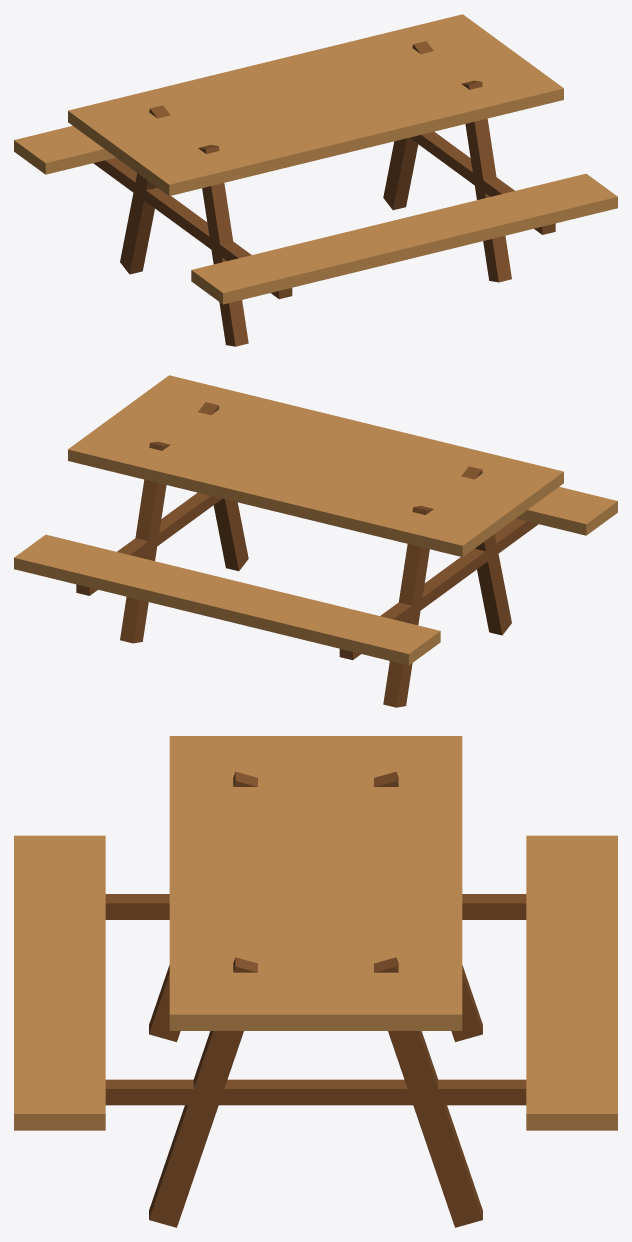
File: patio_picnic_table.glb
The picture shows the model from 3 angles, top to bottom: view 1: azimuth 30°, elevation 25°; view 2: azimuth 150°, elevation 25°; view 3: azimuth 270°, elevation 25°; orthographic projection. The views are drawn at different scales.
Parts seen in each view (by area): view 1: picnic_table; view 2: picnic_table; view 3: picnic_table.
Part boxes in pixels (x1,y1,x2,y2): picnic_table: (14,14,617,346); picnic_table: (14,375,617,707); picnic_table: (14,736,617,1227).
Bounding box in the file's own units: 1.8 × 0.7879 × 1.65.
